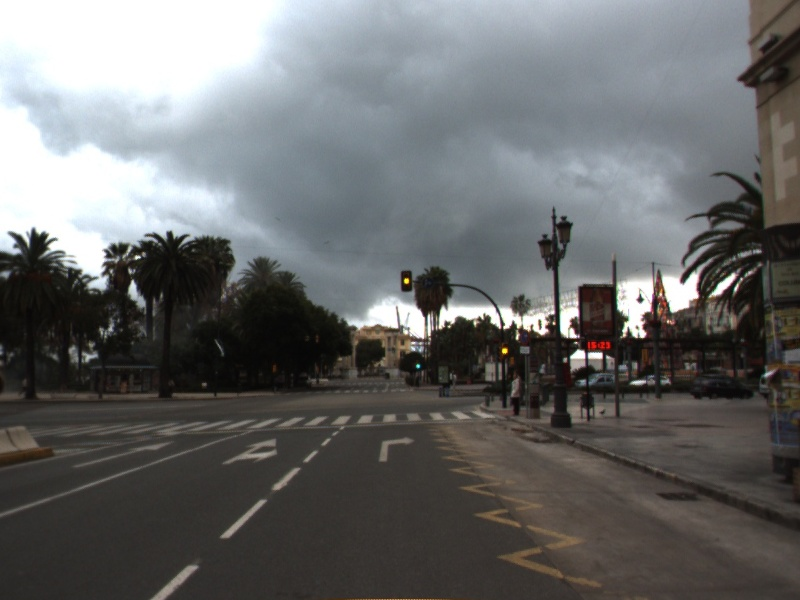RIGHT: (377, 434, 417, 464)
STRAIGHT: (70, 439, 177, 470)
STRAIGHT_RIGHT: (220, 436, 279, 467)
